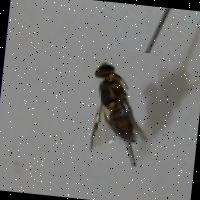Oriental-fruit-fly: (71, 44, 160, 166)
